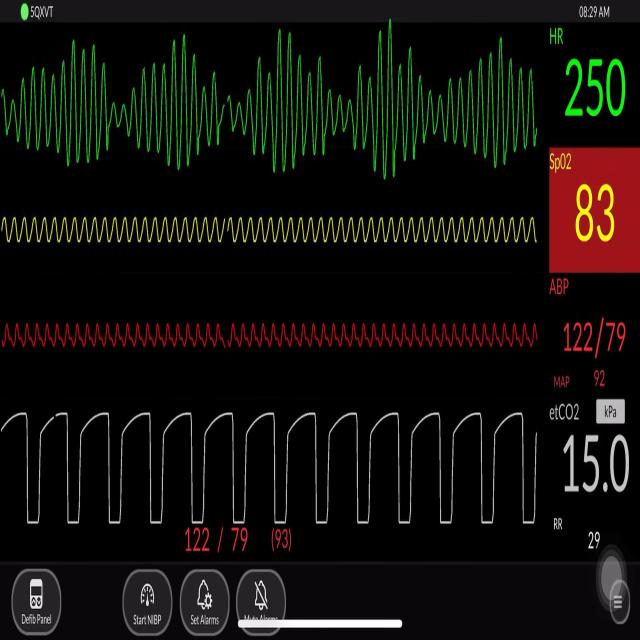danger: (10, 28, 553, 195)
